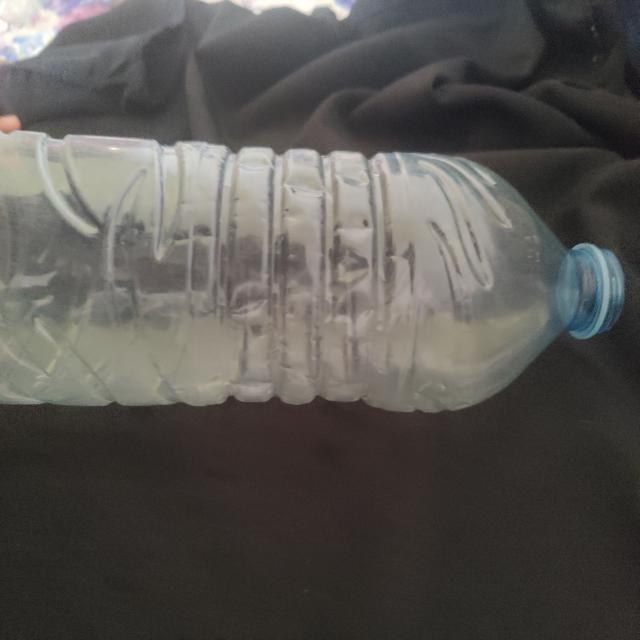plastic: (3, 135, 624, 410)
